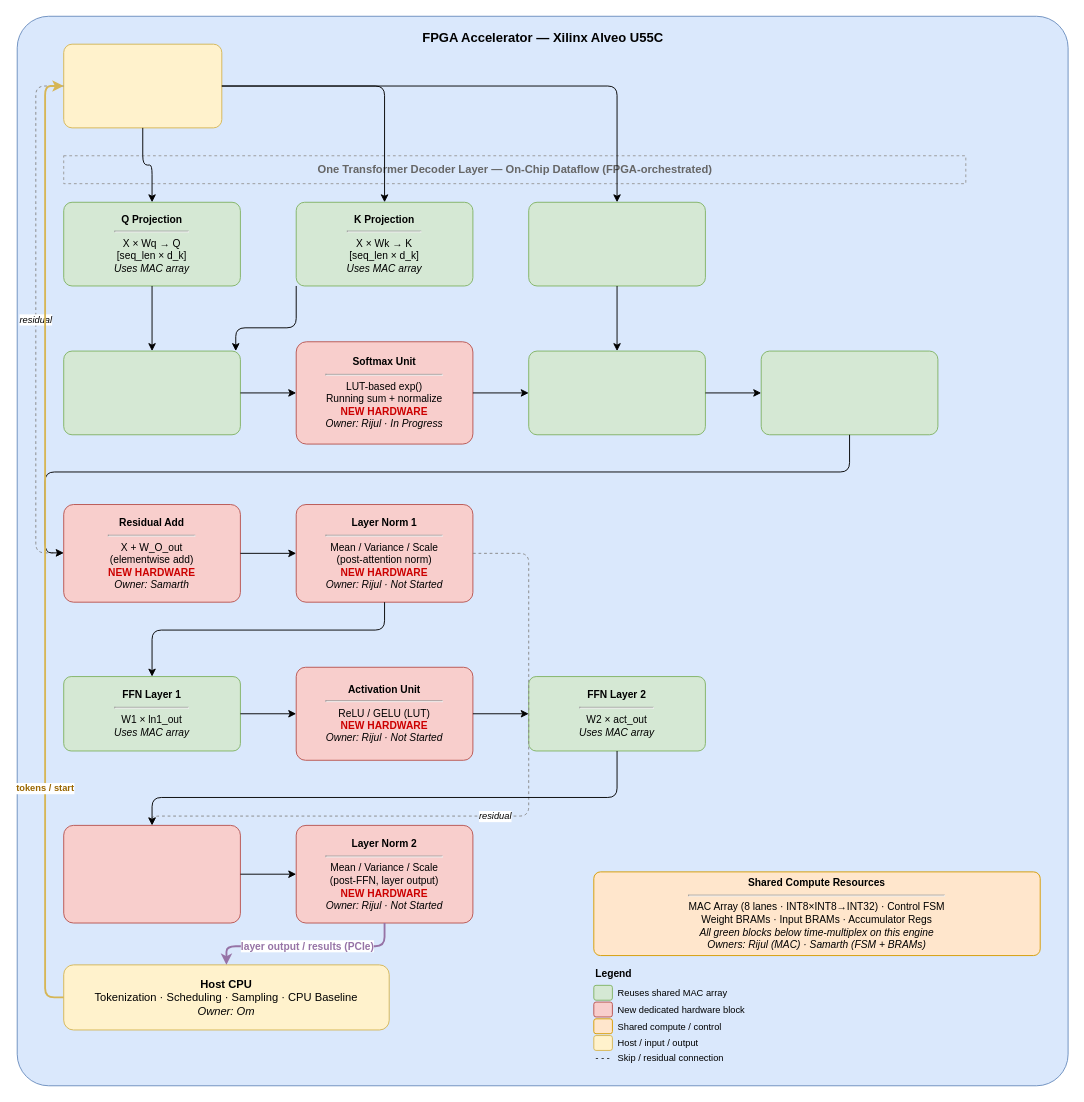
Image size: 1084x1102. Some labels were removed from this diagram. The shapes that lost their labels are listed below. From the top down, each one's box as (x1, y1, x2, y2) in pixels, then its label:
(63, 43, 222, 128): Input X Token embedding [seq_len × d_model] INT8
(528, 201, 705, 286): V Projection X × Wv → V [seq_len × d_v] Uses MAC array
(63, 350, 240, 435): Attention Scores Q × Kᵀ / √d_k [seq_len × seq_len] Uses MAC array
(528, 350, 705, 435): Weighted Sum softmax(…) × V [seq_len × d_v] Uses MAC array
(760, 350, 938, 435): Output Projection attn_out × W_O [seq_len × d_model] Uses MAC array
(63, 824, 240, 923): Residual Add LN1_out + FFN_out (elementwise add) NEW HARDWARE Owner: Samarth
